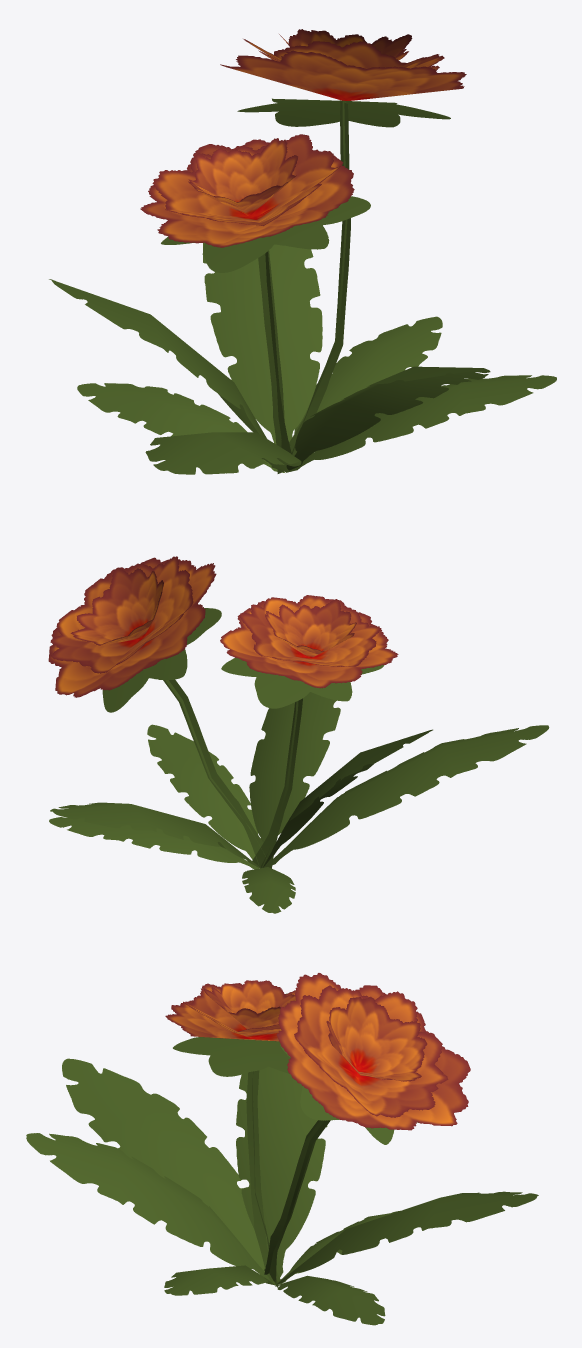
The model's file is Flower2.fbx.
3 renders of one model, top to bottom at view 1: azimuth 30°, elevation 25°; view 2: azimuth 150°, elevation 25°; view 3: azimuth 270°, elevation 25°, orthographic. The views are drawn at different scales.
Parts seen in each view (by area): view 1: Flower 2; view 2: Flower 2; view 3: Flower 2.
Part boxes in pixels (x1=…): Flower 2: x1=49, y1=29, x2=556, y2=474; Flower 2: x1=48, y1=556, x2=549, y2=913; Flower 2: x1=26, y1=973, x2=538, y2=1325.
Size of the model in its own units: 74.7 by 54.29 by 77.98.
